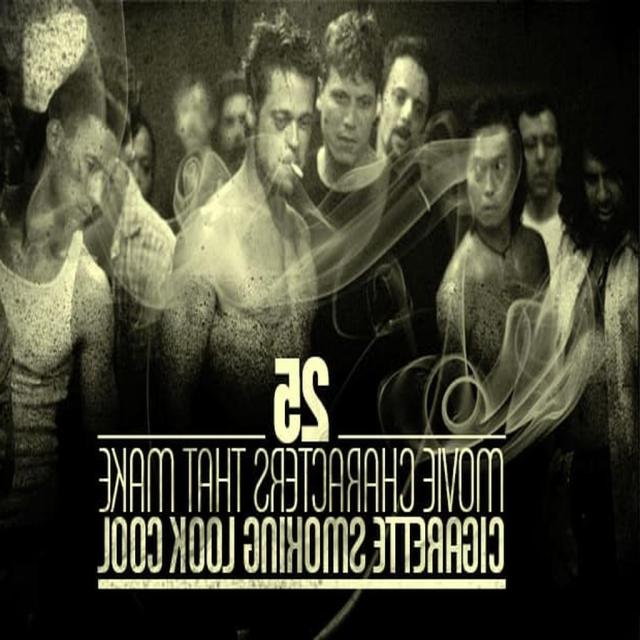smoking: (230, 130, 362, 255)
